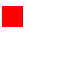square: (2, 6, 22, 26)
